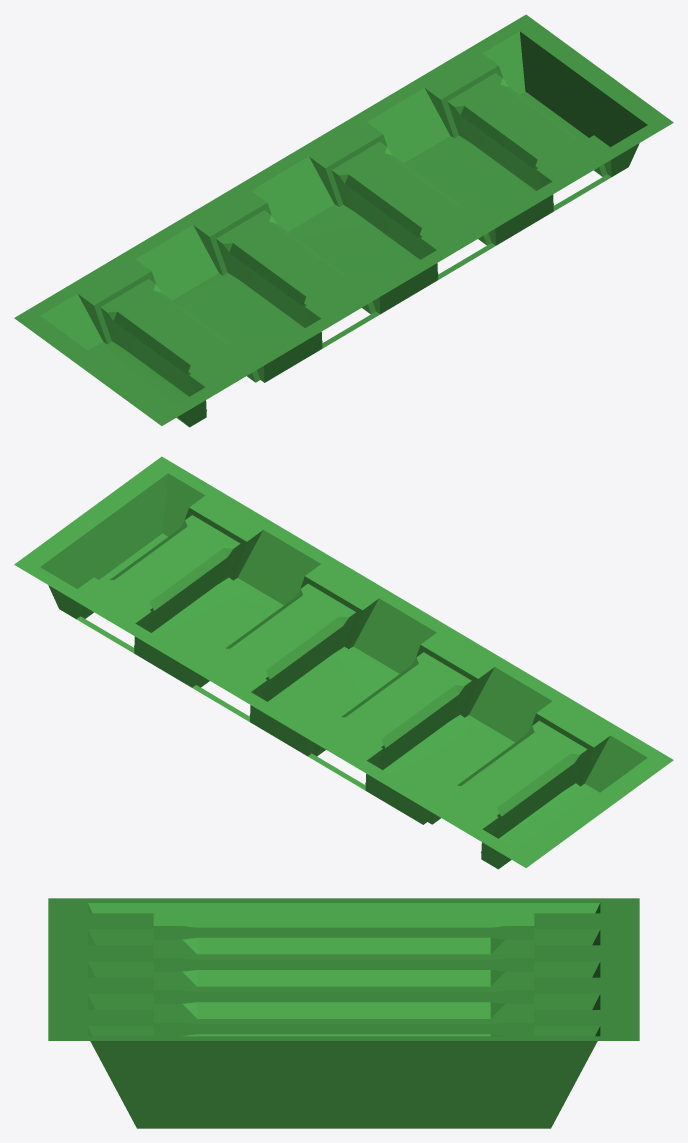
File: Room_Cealing_Stairs_A.FBX
3 views of the same model, one above another, from view 1: azimuth 30°, elevation 25°; view 2: azimuth 150°, elevation 25°; view 3: azimuth 270°, elevation 25° (orthographic). The views are drawn at different scales.
Visible parts, largest first — view 1: Room_Cealing_Stairs_A; view 2: Room_Cealing_Stairs_A; view 3: Room_Cealing_Stairs_A.
Boxes of the visible parts, x1,y1,x2,y2 form: Room_Cealing_Stairs_A: (14, 14, 673, 427); Room_Cealing_Stairs_A: (14, 456, 673, 869); Room_Cealing_Stairs_A: (48, 898, 639, 1128).
Size of the model in its own units: 600 by 233 by 300.
